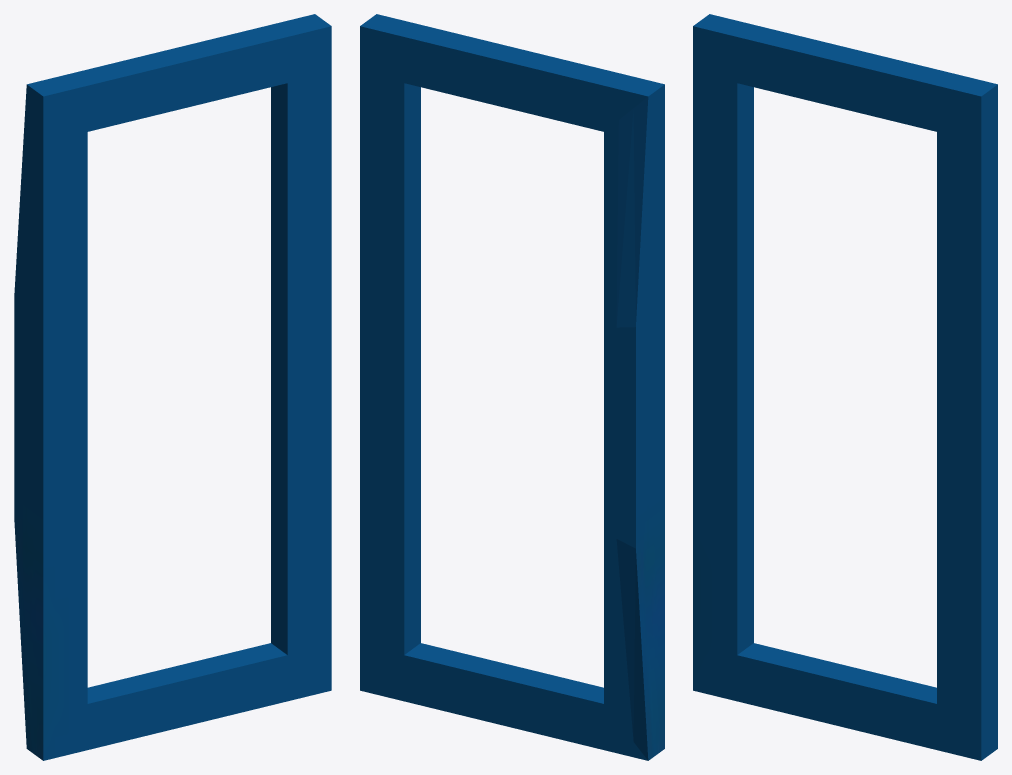
Rendered from refri_puerta_1.obj.
3 views of the same model, side by side, from view 1: azimuth 30°, elevation 25°; view 2: azimuth 150°, elevation 25°; view 3: azimuth 330°, elevation 25° (orthographic).
Parts seen in each view (by area): view 1: Cubo.022_Cubo.028; view 2: Cubo.022_Cubo.028; view 3: Cubo.022_Cubo.028.
Boxes of the visible parts, left/top/right/bottom form: Cubo.022_Cubo.028: left=14, top=14, right=331, bottom=760; Cubo.022_Cubo.028: left=360, top=14, right=664, bottom=760; Cubo.022_Cubo.028: left=693, top=14, right=997, bottom=760.
Bounding box in the file's own units: 1 × 2.2 × 0.1748.
